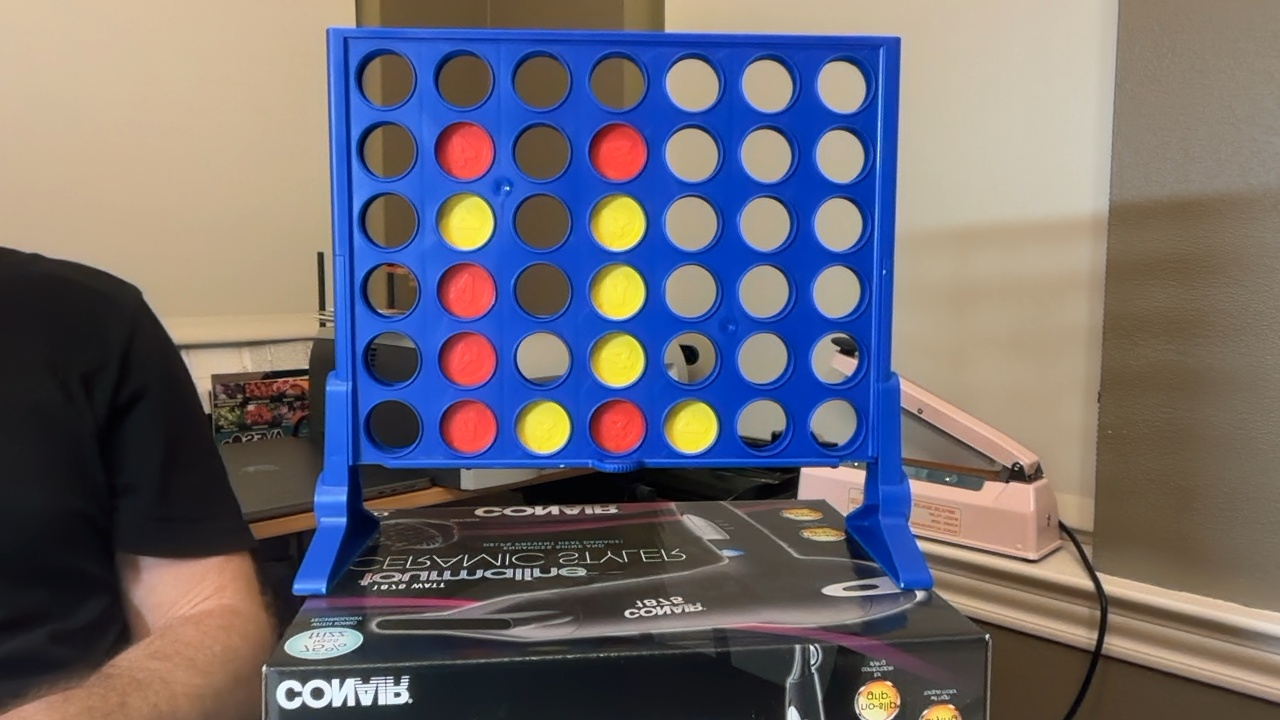red piece: (435, 122, 494, 180), (589, 123, 646, 181), (438, 263, 495, 319), (439, 332, 496, 387), (440, 399, 496, 454), (589, 399, 645, 453)
yellow piece: (590, 194, 646, 251), (438, 193, 494, 250), (590, 264, 645, 319), (590, 332, 645, 387), (515, 400, 570, 454), (664, 400, 717, 454)
